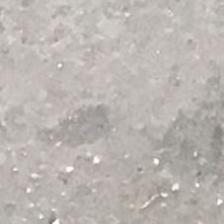Non_Crack: (20, 15, 212, 224)
